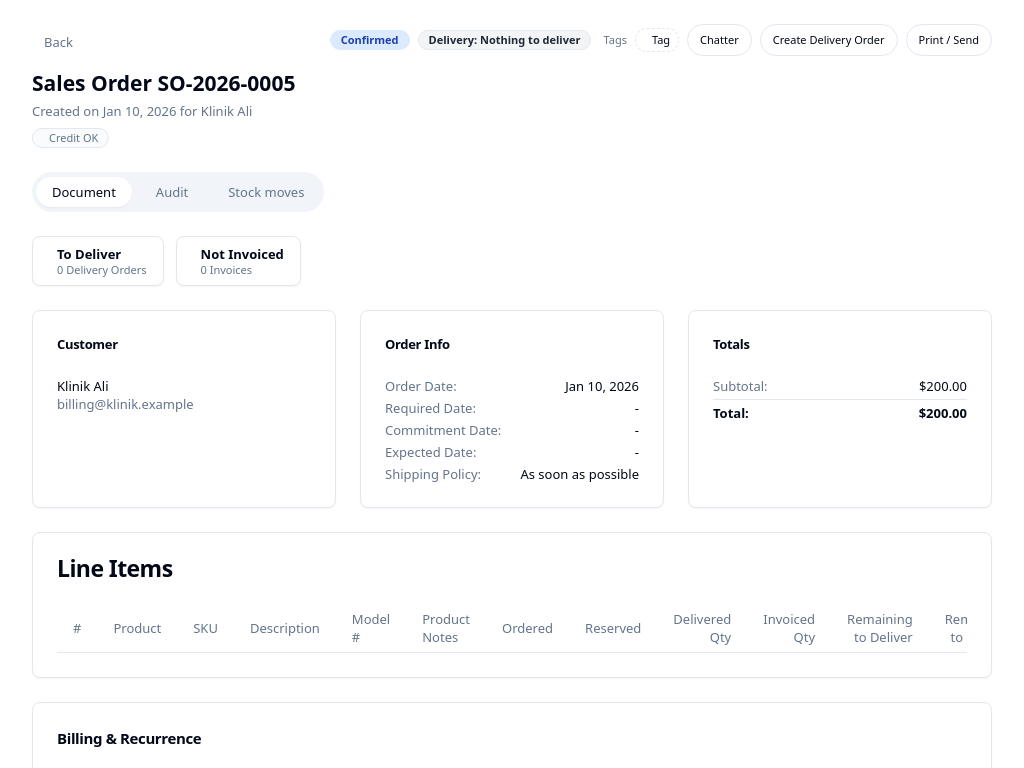
SalesOrderDetailPage — pro-forma invoice toggle (#551) › hides the pro-forma invoice when the tenant turned it off
Expected: the heading "Sales Order SO-2026-0005" is shown, [32,68,314,98]
Press the mouse on the button "Print / Send" at (949, 40), box [906,24,992,56]
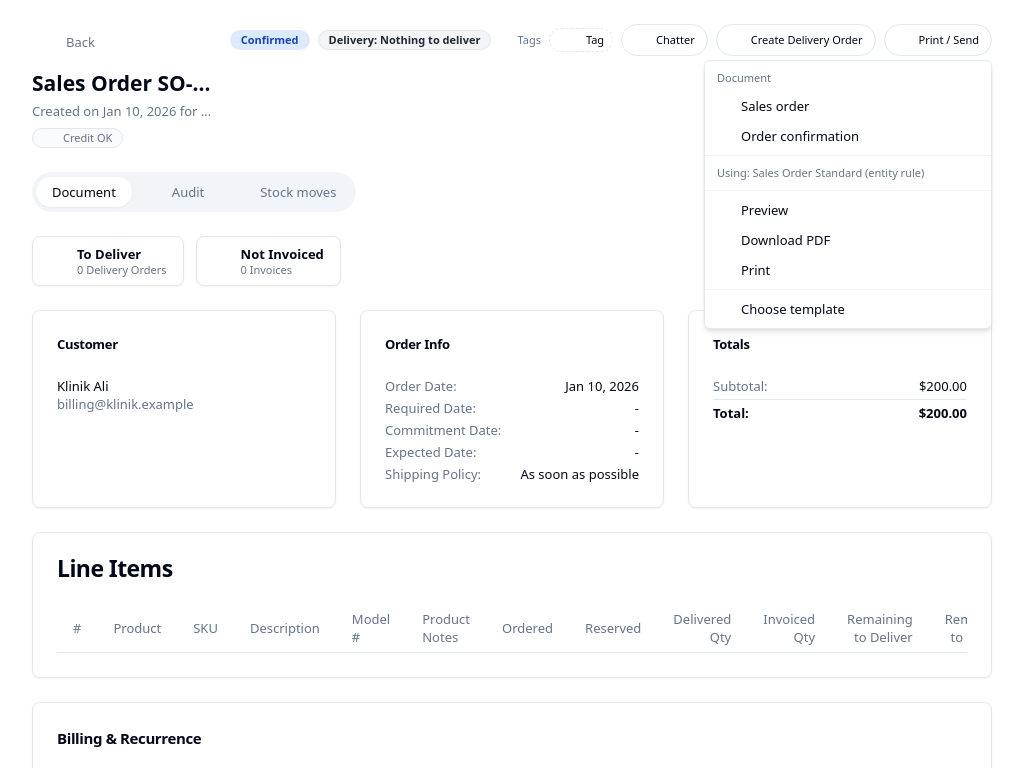
Expected: the menu item "Preview" is shown, [717,201,788,219]
Expected: the menu item "Order confirmation" is shown, [741,127,859,145]
